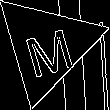M_N: (18, 15, 76, 76)
